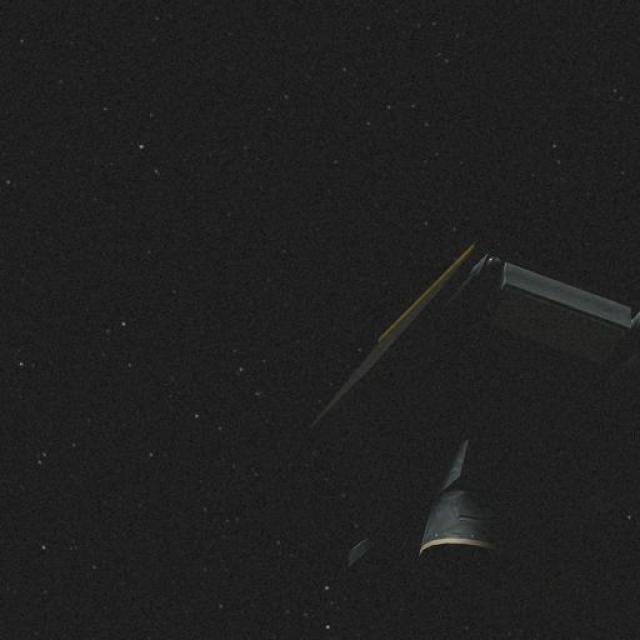cheops: (312, 218, 626, 574)
